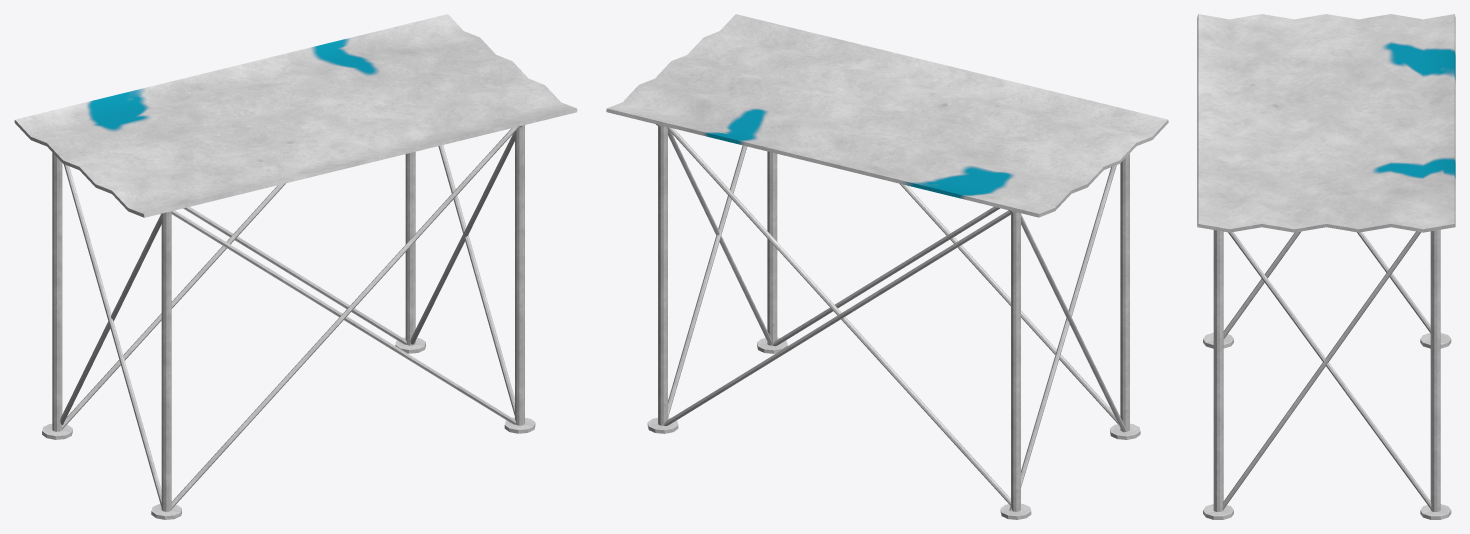
File: echaffaudage.fbx
3 views of the same model, side by side, from view 1: azimuth 30°, elevation 25°; view 2: azimuth 150°, elevation 25°; view 3: azimuth 270°, elevation 25° (orthographic).
Parts seen in each view (by area): view 1: echaffaudage; view 2: echaffaudage; view 3: echaffaudage.
Boxes of the visible parts, left/top/right/bottom form: echaffaudage: left=14, top=14, right=577, bottom=519; echaffaudage: left=606, top=14, right=1168, bottom=519; echaffaudage: left=1197, top=14, right=1455, bottom=519.
Bounding box in the file's own units: 290 × 204 × 151.
Materials: 1 (1 with a texture image).
